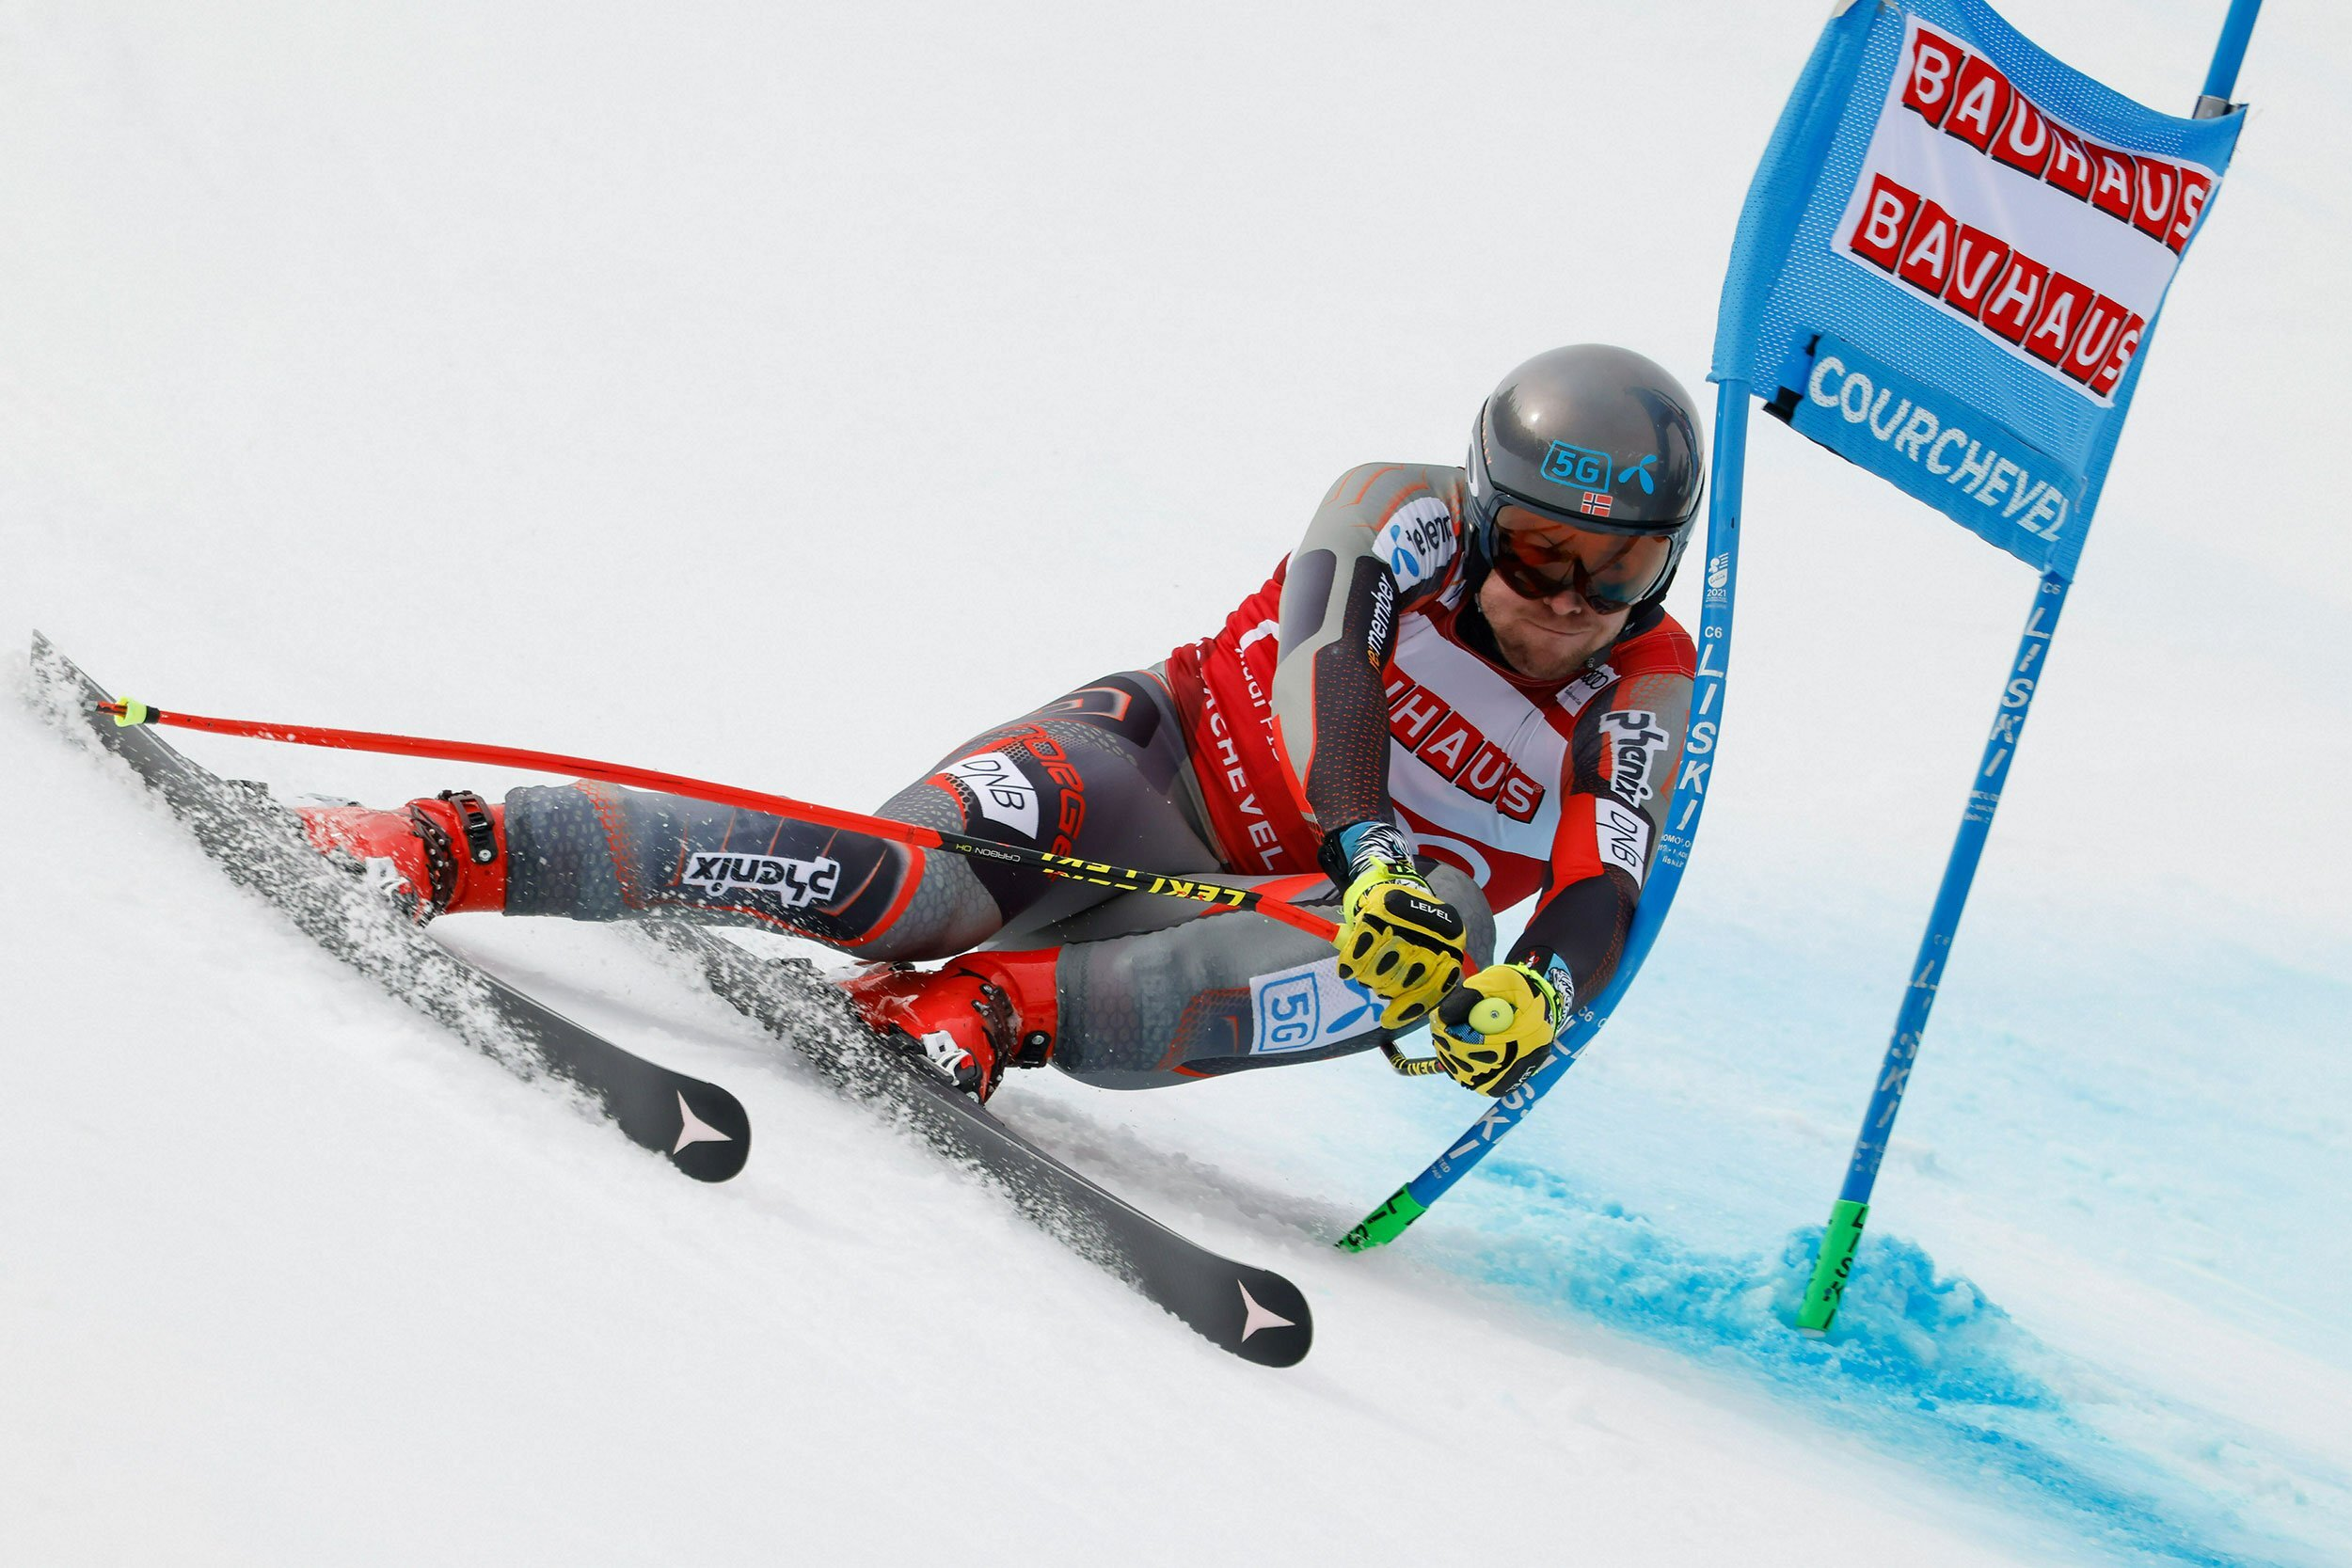skier: (72, 227, 1843, 1484)
